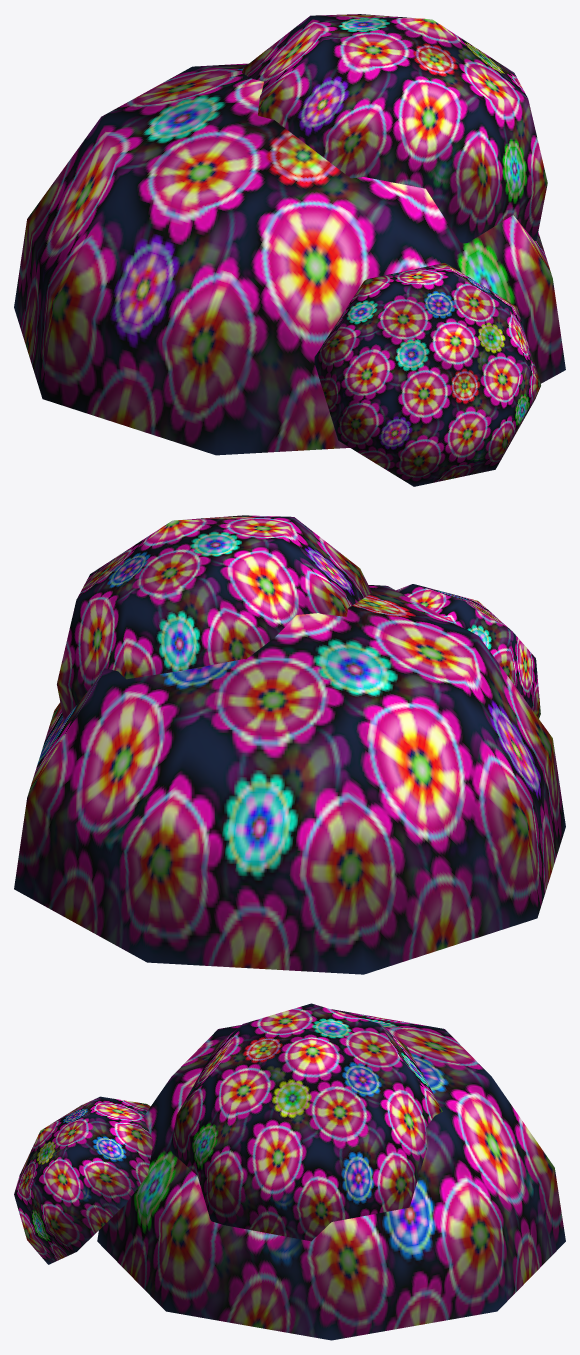
The model's file is coral_03.FBX.
3 views of the same model, one above another, from view 1: azimuth 30°, elevation 25°; view 2: azimuth 150°, elevation 25°; view 3: azimuth 270°, elevation 25° (orthographic). The views are drawn at different scales.
Visible parts, largest first — view 1: coral_03; view 2: coral_03; view 3: coral_03.
Part boxes in pixels (x1,y1,x2,y2): coral_03: [14, 14, 565, 486]; coral_03: [14, 515, 565, 974]; coral_03: [14, 1003, 565, 1340].
Bounding box in the file's own units: 11.5 × 7.01 × 13.54.
